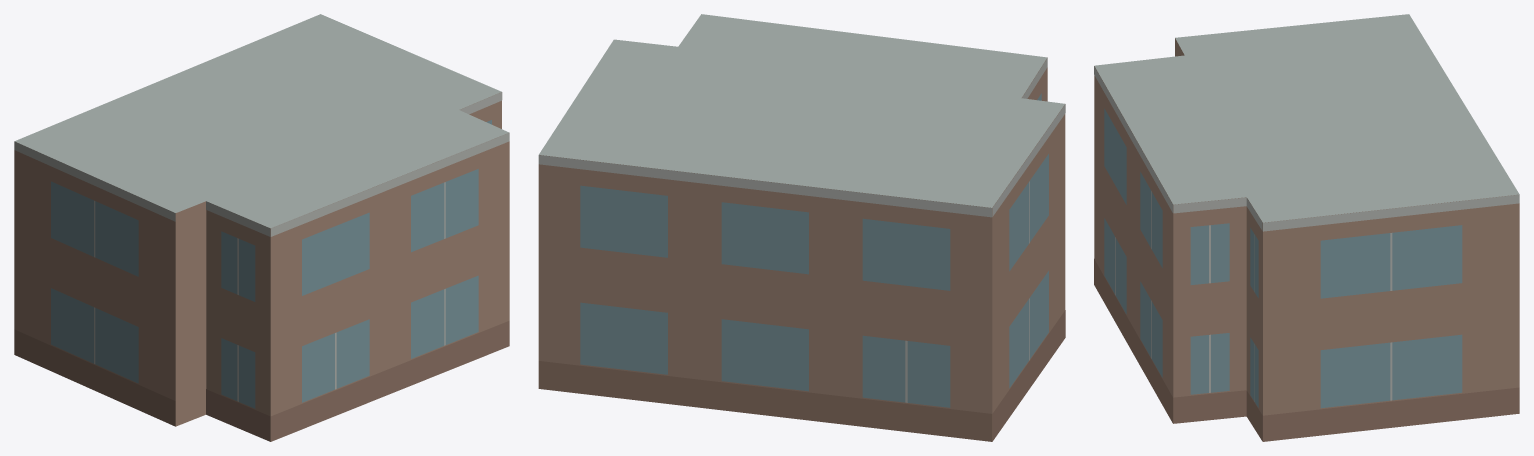
File: survey-upis-32687816.glb
The picture shows the model from 3 angles, left to right: view 1: azimuth 30°, elevation 25°; view 2: azimuth 150°, elevation 25°; view 3: azimuth 270°, elevation 25°; orthographic projection. The views are drawn at different scales.
Parts seen in each view (by area): view 1: survey-upis-32687816.tmp; view 2: survey-upis-32687816.tmp; view 3: survey-upis-32687816.tmp.
Boxes of the visible parts, left/top/right/bottom form: survey-upis-32687816.tmp: left=14, top=14, right=509, bottom=441; survey-upis-32687816.tmp: left=538, top=14, right=1065, bottom=441; survey-upis-32687816.tmp: left=1094, top=14, right=1519, bottom=441.
Bounding box in the file's own units: 11.85 × 5.8 × 10.22.
